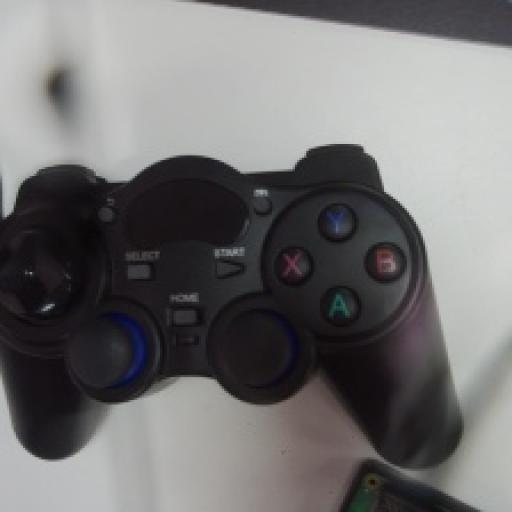game pad: (0, 146, 459, 464)
